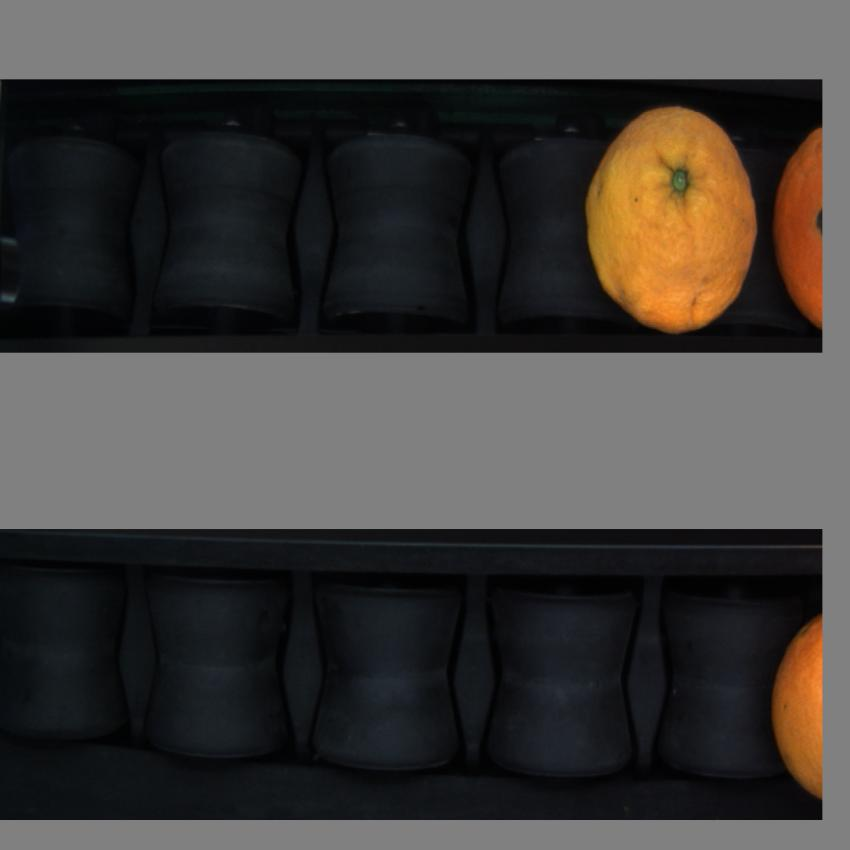Buen estado: (770, 126, 820, 338), (770, 608, 823, 792)
Mal estado: (586, 111, 760, 330)
